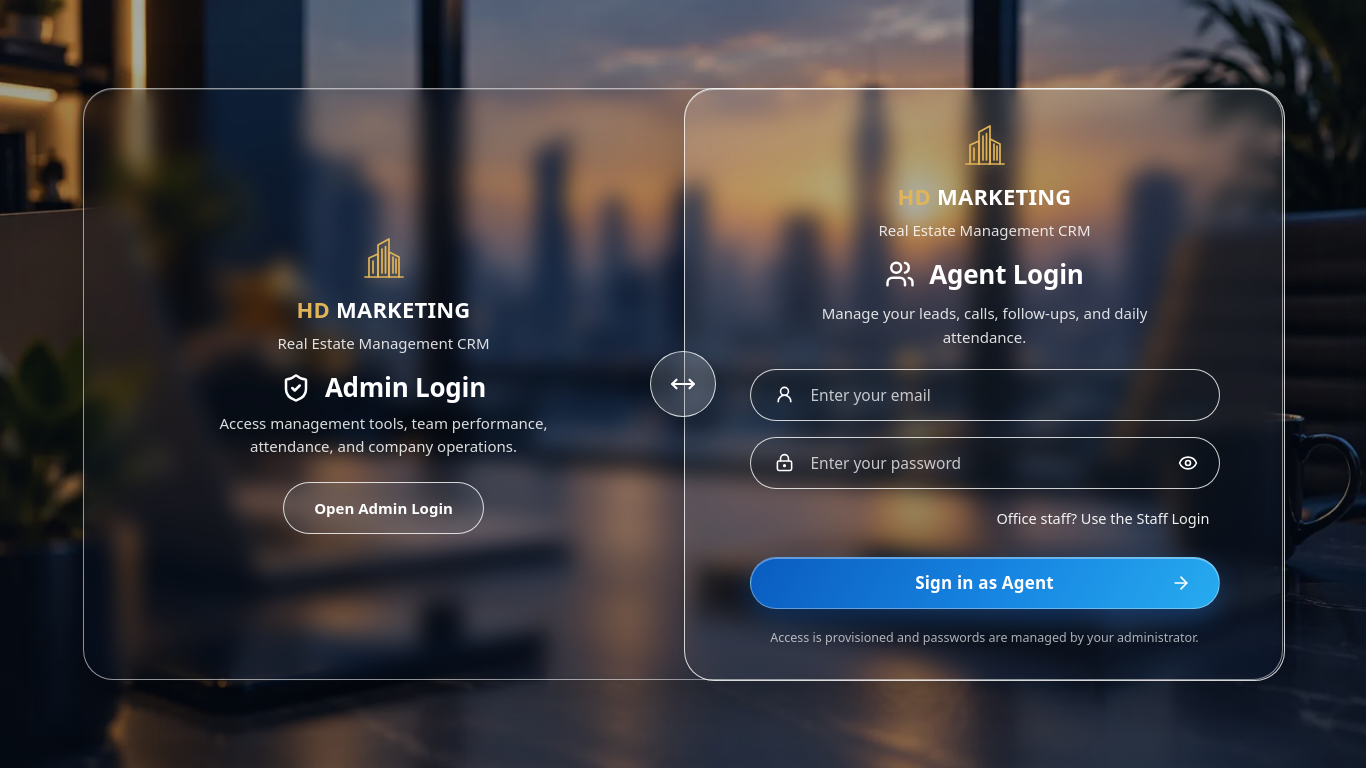
Scenario: separate login portals › keeps invalid passwords out of the role check and app session
This screenshot has width=1366, height=768.
In the dropdown named "Email address": (984, 395) [750,370,1218,420], type "person@example.com"
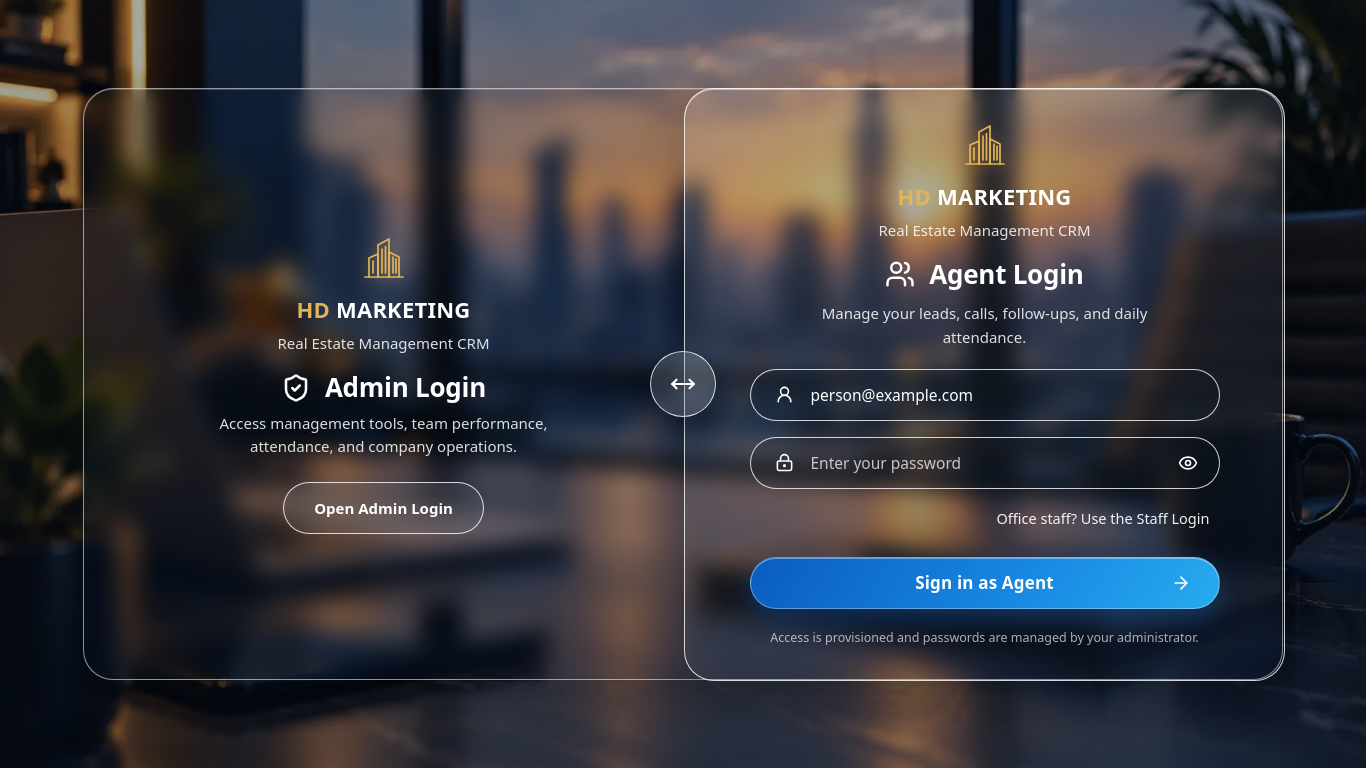
In the password field labelled "password": (984, 463) [750,438,1218,488], type "fixture-password-1234"
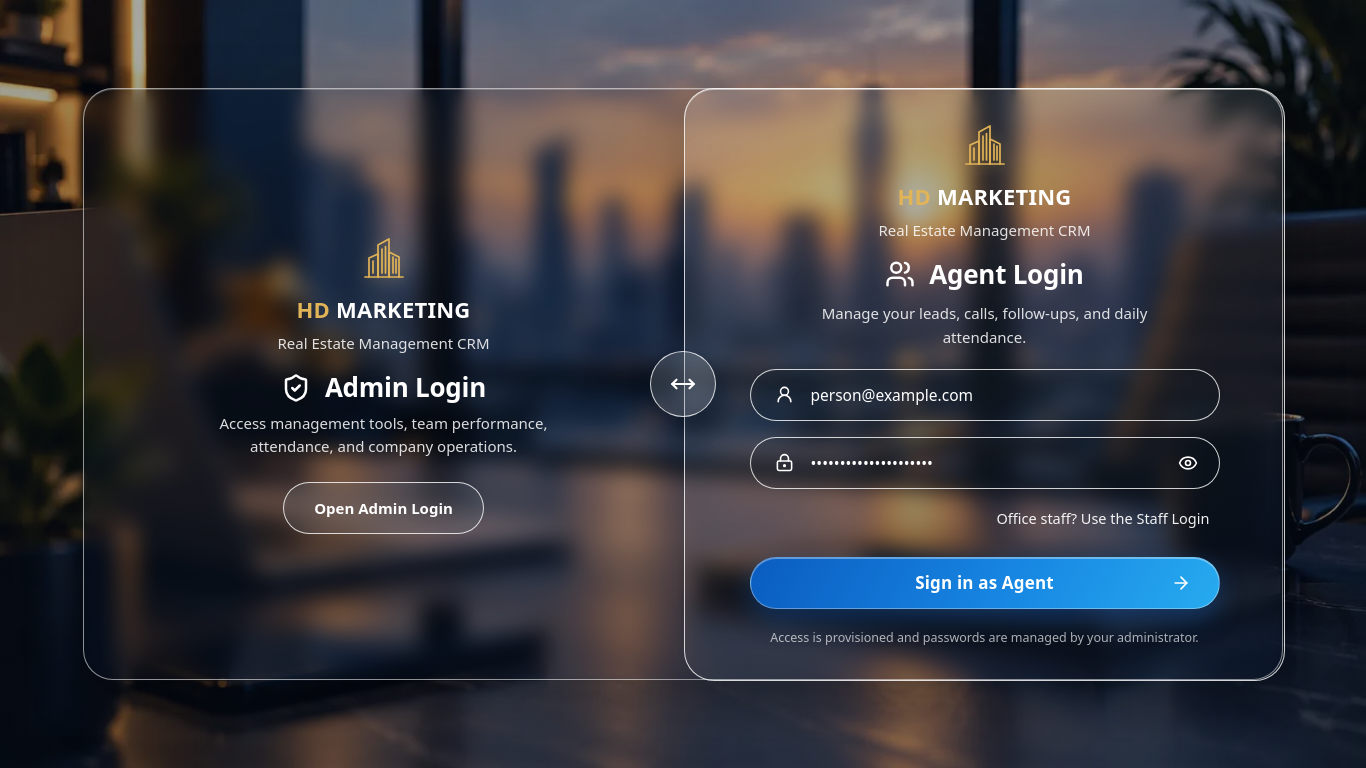
Click the button "Sign in as Agent": (984, 583) [750,557,1220,609]
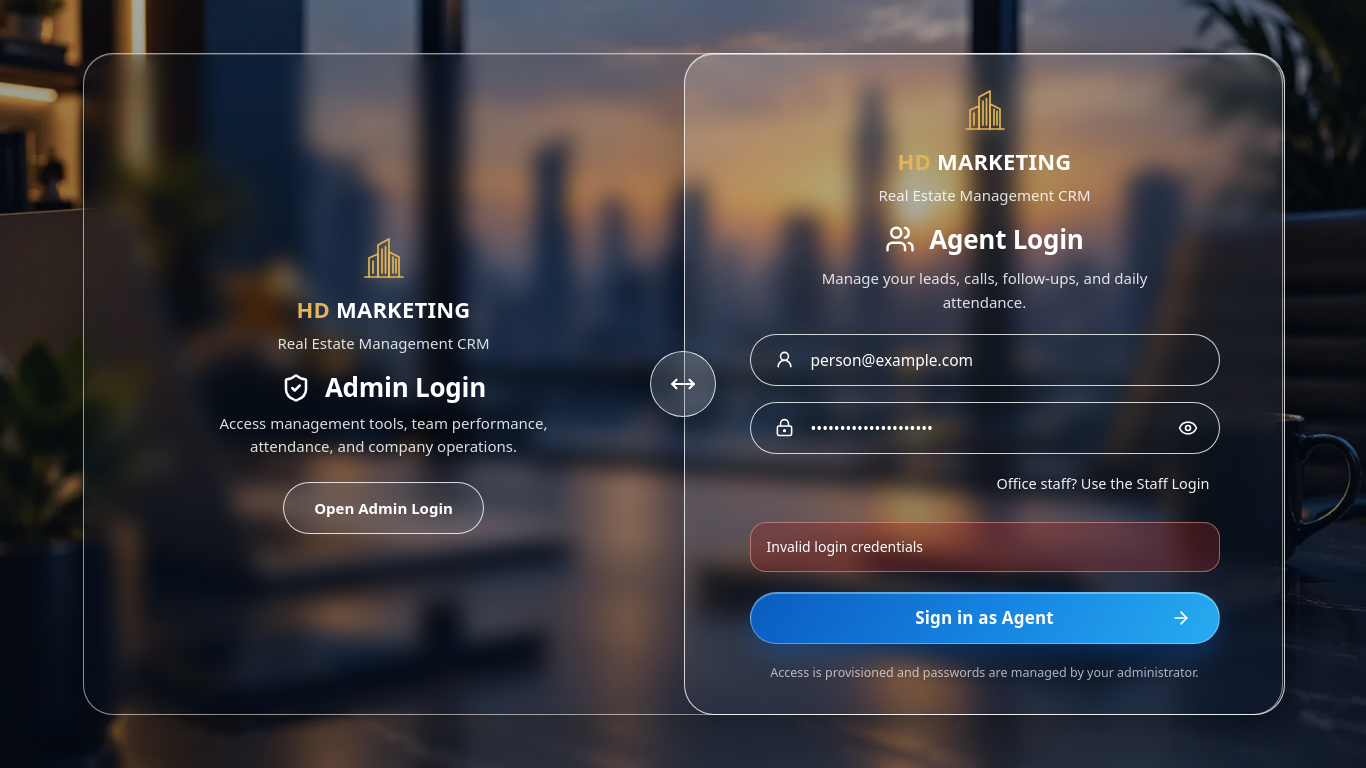
Result: the message reads "Invalid login credentials" at [766,537,923,556]
